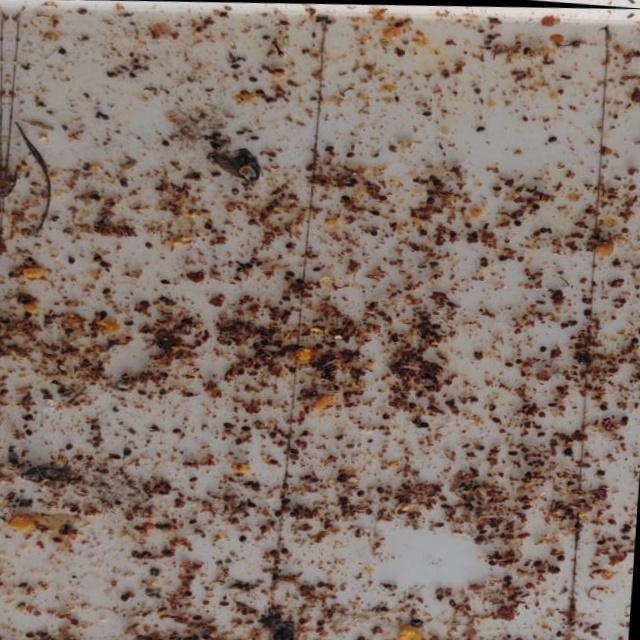varroa: (470, 125, 488, 135), (603, 258, 622, 267), (547, 350, 562, 361), (87, 419, 103, 429), (519, 45, 532, 57), (494, 252, 511, 261), (98, 306, 110, 318), (22, 409, 36, 419), (149, 565, 163, 575), (119, 316, 136, 324), (471, 86, 486, 95), (276, 16, 291, 25), (478, 255, 489, 267), (66, 251, 78, 262), (158, 135, 171, 145), (581, 308, 594, 318), (503, 178, 516, 188), (23, 425, 36, 435), (563, 447, 576, 457), (420, 109, 436, 117), (603, 194, 619, 202), (208, 140, 222, 149), (92, 251, 106, 260), (441, 299, 459, 306), (465, 501, 479, 510), (354, 488, 368, 497), (423, 195, 434, 206), (544, 136, 559, 144), (537, 344, 549, 354), (515, 254, 527, 264), (596, 402, 608, 412), (301, 426, 313, 436), (264, 93, 277, 102), (278, 293, 291, 302), (117, 173, 130, 182), (535, 432, 548, 441), (596, 468, 609, 477), (484, 32, 498, 40), (489, 184, 503, 192), (313, 342, 327, 350), (415, 313, 429, 321), (441, 503, 455, 511), (228, 185, 239, 195), (512, 218, 523, 228), (390, 333, 401, 343), (7, 267, 18, 277), (431, 205, 443, 214), (255, 258, 267, 267), (123, 445, 135, 454), (375, 485, 387, 494), (142, 548, 154, 557), (136, 297, 151, 304), (109, 449, 124, 456), (605, 536, 620, 543), (432, 521, 447, 528), (289, 451, 304, 458), (223, 420, 238, 427), (557, 321, 570, 329), (179, 315, 192, 323), (248, 340, 261, 348), (417, 421, 430, 429), (519, 504, 532, 512), (244, 478, 257, 486), (246, 499, 259, 507), (246, 215, 256, 225), (284, 239, 295, 248), (330, 382, 341, 391), (273, 507, 284, 516), (364, 507, 375, 516), (322, 144, 336, 151), (54, 45, 66, 53), (96, 257, 112, 263), (137, 385, 149, 393), (490, 415, 502, 423), (252, 481, 264, 489), (161, 546, 173, 554), (344, 150, 357, 157), (253, 86, 266, 93), (246, 73, 259, 80), (75, 5, 88, 12), (209, 130, 222, 137), (158, 277, 171, 284), (74, 452, 87, 459), (157, 369, 170, 376), (539, 225, 549, 234), (245, 259, 255, 268), (182, 389, 197, 395), (122, 590, 131, 600), (100, 111, 111, 119), (338, 193, 349, 201), (310, 263, 321, 271), (63, 440, 74, 448), (157, 385, 168, 393), (289, 508, 300, 516), (281, 546, 292, 554), (229, 61, 241, 68), (247, 133, 261, 139), (617, 298, 629, 305), (568, 320, 580, 327), (377, 193, 389, 200), (101, 284, 113, 291), (172, 425, 184, 432), (379, 494, 391, 501), (189, 474, 201, 481), (280, 497, 292, 504), (408, 512, 420, 519), (270, 548, 282, 555), (187, 517, 199, 524), (418, 227, 427, 236), (388, 219, 397, 228), (127, 69, 137, 77), (349, 176, 359, 184), (295, 276, 305, 284), (120, 178, 130, 186), (430, 323, 443, 329), (368, 208, 379, 215), (285, 269, 296, 276), (259, 337, 270, 344), (21, 393, 32, 400), (607, 519, 618, 526), (268, 429, 279, 436), (238, 424, 253, 429), (209, 170, 221, 176), (545, 228, 554, 236), (531, 231, 543, 237), (532, 202, 540, 211), (463, 221, 472, 229), (428, 260, 440, 266), (250, 254, 259, 262), (235, 264, 247, 270), (508, 450, 520, 456), (597, 539, 606, 547), (440, 494, 449, 502), (402, 497, 414, 503), (268, 458, 280, 464), (142, 63, 152, 70), (563, 74, 573, 81), (618, 228, 628, 235), (582, 208, 596, 213), (367, 228, 377, 235), (145, 239, 152, 249), (266, 327, 276, 334), (620, 536, 634, 541), (574, 522, 584, 529), (514, 358, 525, 364), (289, 446, 300, 452), (415, 264, 428, 269), (450, 229, 458, 237), (240, 534, 248, 542), (431, 179, 440, 186), (329, 341, 338, 348), (23, 309, 30, 318), (239, 88, 249, 94), (505, 361, 515, 367), (402, 18, 412, 23), (195, 338, 205, 343), (623, 524, 633, 529), (428, 174, 435, 181), (131, 589, 138, 595), (522, 446, 532, 450), (420, 333, 427, 338)
